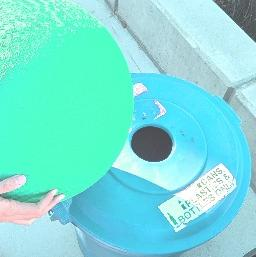algae: (0, 0, 126, 204)
